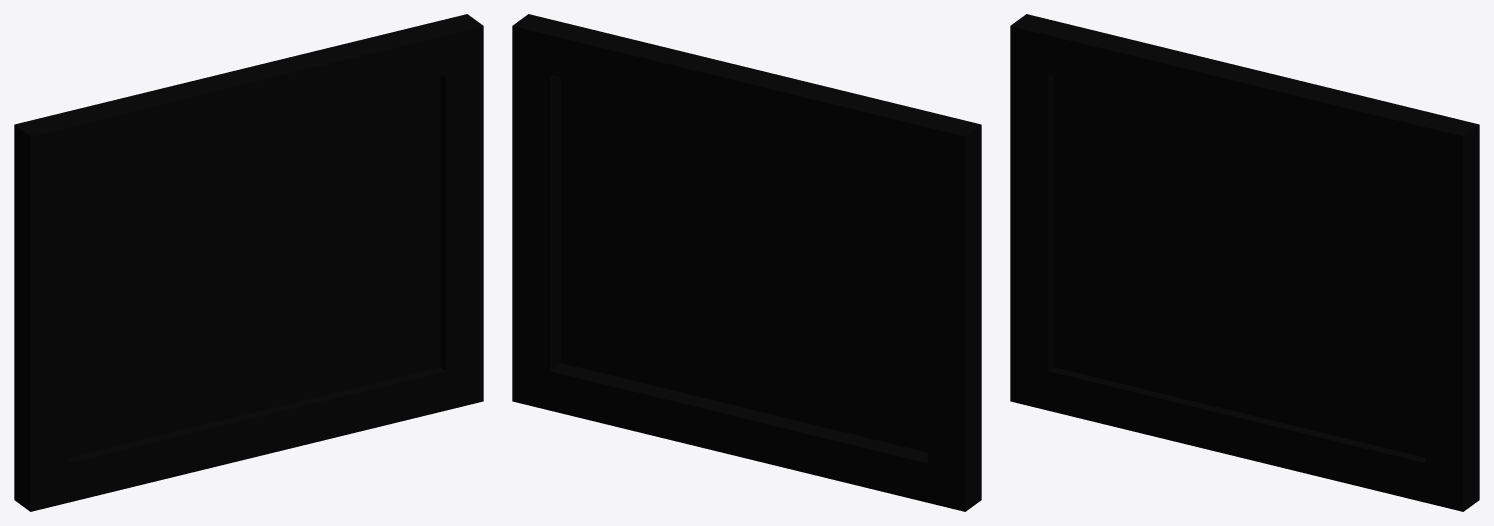
The model's file is SM_painting_house.fbx.
3 renders of one model, left to right at view 1: azimuth 30°, elevation 25°; view 2: azimuth 150°, elevation 25°; view 3: azimuth 330°, elevation 25°, orthographic.
Parts seen in each view (by area): view 1: painting_house; view 2: painting_house; view 3: painting_house.
Boxes of the visible parts, left/top/right/bottom form: painting_house: left=14, top=14, right=483, bottom=511; painting_house: left=512, top=14, right=981, bottom=511; painting_house: left=1010, top=14, right=1479, bottom=511.
Size of the model in its own units: 0.96 by 0.76 by 0.06.
